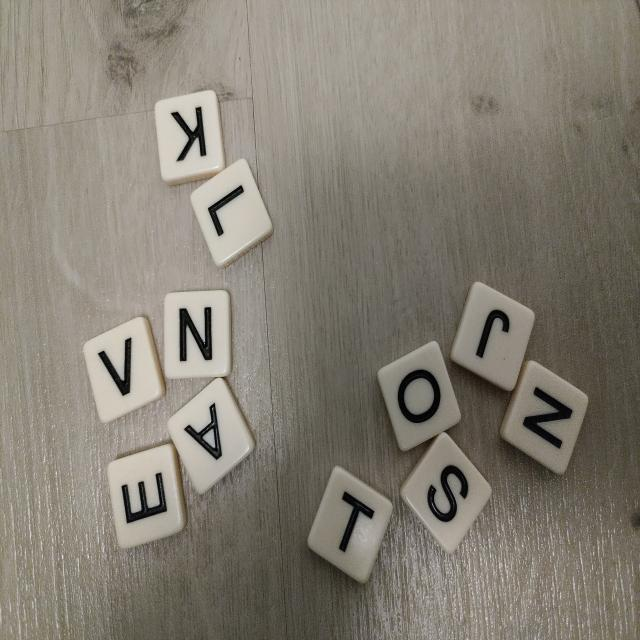a: (165, 374, 257, 499)
e: (105, 442, 188, 551)
j: (447, 278, 536, 395)
k: (153, 88, 226, 187)
l: (188, 157, 276, 270)
n: (497, 357, 592, 478), (164, 289, 232, 380)
o: (375, 339, 463, 454)
s: (397, 428, 495, 558)
t: (304, 463, 396, 587)
v: (81, 314, 167, 426)
